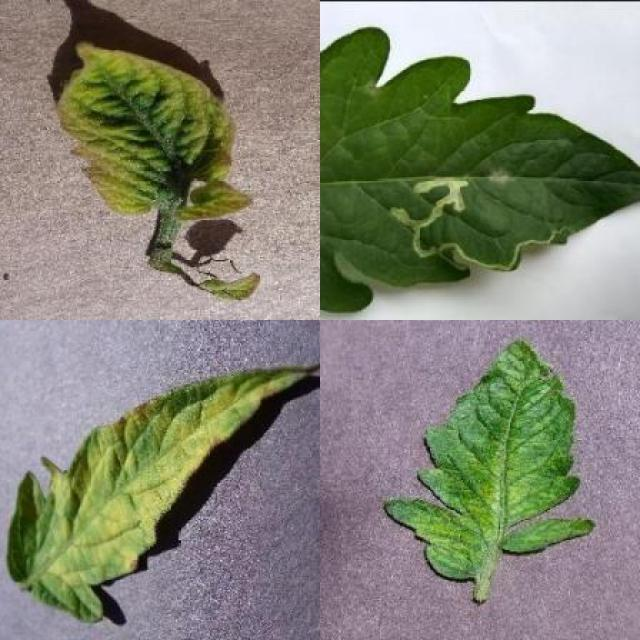Leaf Miner: (320, 25, 640, 311)
Leaf Mold: (5, 367, 308, 623)
Mosaic Virus: (385, 338, 595, 582)
Yellow Leaf Curl Virus: (56, 40, 256, 220)
